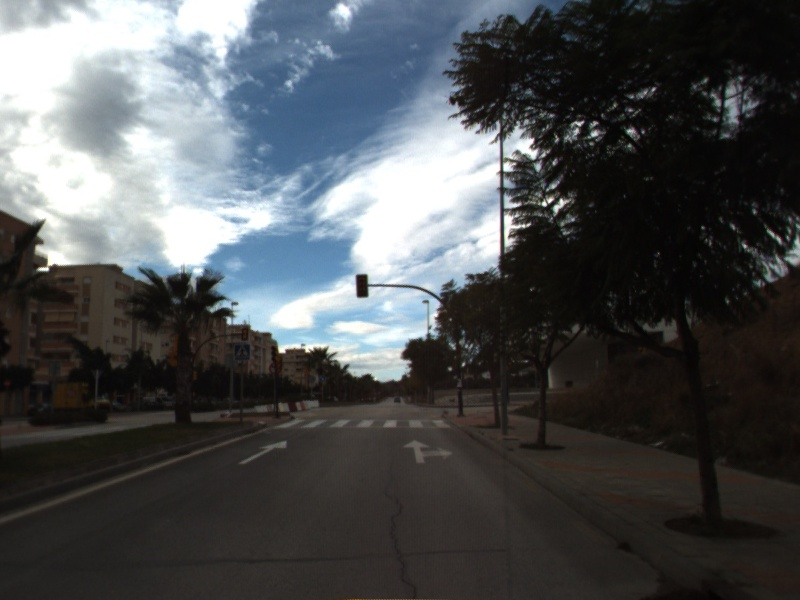STRAIGHT: (237, 439, 289, 466)
STRAIGHT_RIGHT: (401, 437, 455, 465)
